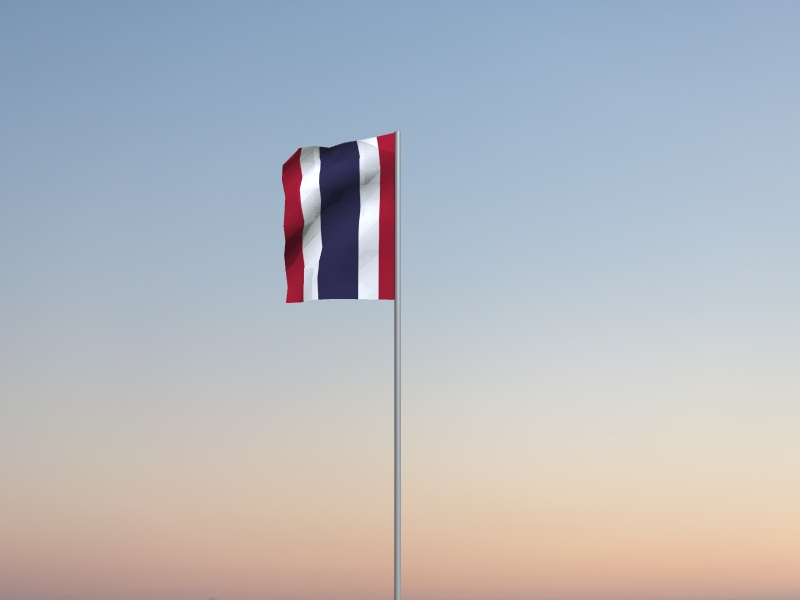th: (281, 132, 394, 304)
